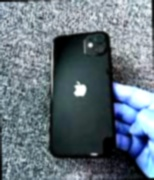iphone: (42, 32, 106, 159)
